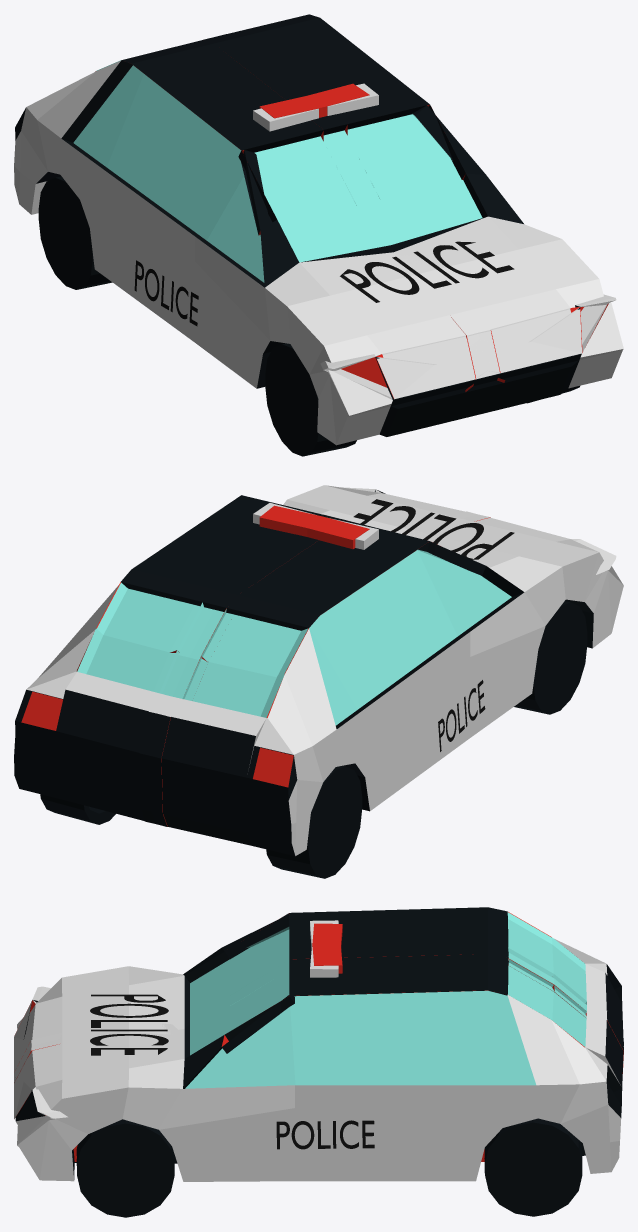
The picture shows the model from 3 angles, top to bottom: view 1: azimuth 30°, elevation 25°; view 2: azimuth 150°, elevation 25°; view 3: azimuth 270°, elevation 25°; orthographic projection. The views are drawn at different scales.
Visible parts, largest first — view 1: Cube, Text, Text.001; view 2: Cube, Text, Text.001; view 3: Cube, Text, Text.002.
Part boxes in pixels (left/top/right/bottom): Cube: left=14, top=14, right=623, bottom=456; Text: left=340, top=241, right=514, bottom=302; Text.001: left=134, top=260, right=198, bottom=326; Cube: left=14, top=485, right=623, bottom=878; Text: left=353, top=499, right=514, bottom=559; Text.001: left=438, top=680, right=485, bottom=751; Cube: left=14, top=907, right=623, bottom=1217; Text: left=90, top=994, right=168, bottom=1055; Text.002: left=276, top=1120, right=374, bottom=1149.
Bounding box in the file's own units: 275 × 211 × 542.
